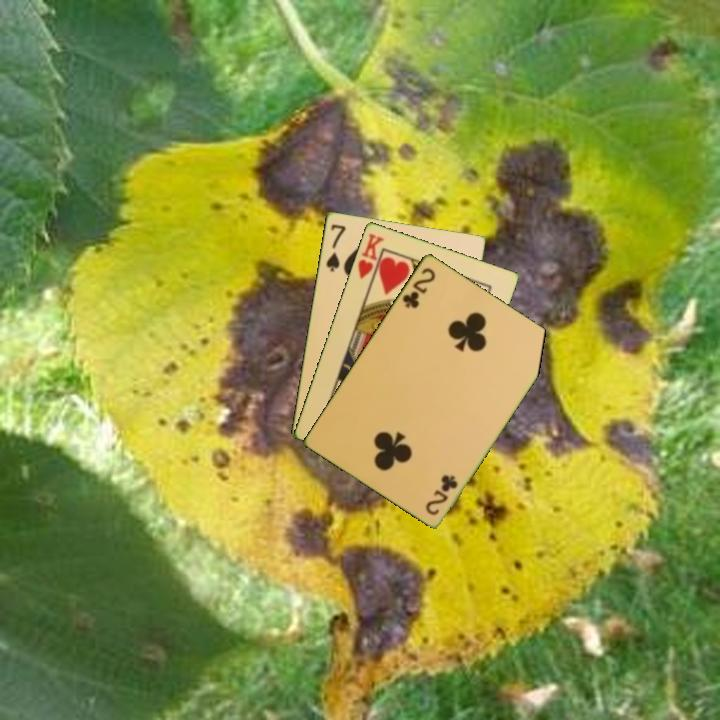2c: (398, 264, 438, 311), (422, 471, 460, 518)
7s: (322, 220, 348, 274)
Kh: (354, 229, 386, 287)
